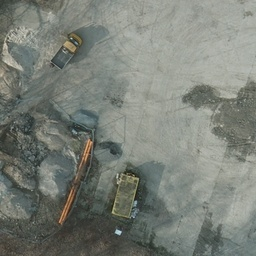car: (50, 32, 84, 66)
